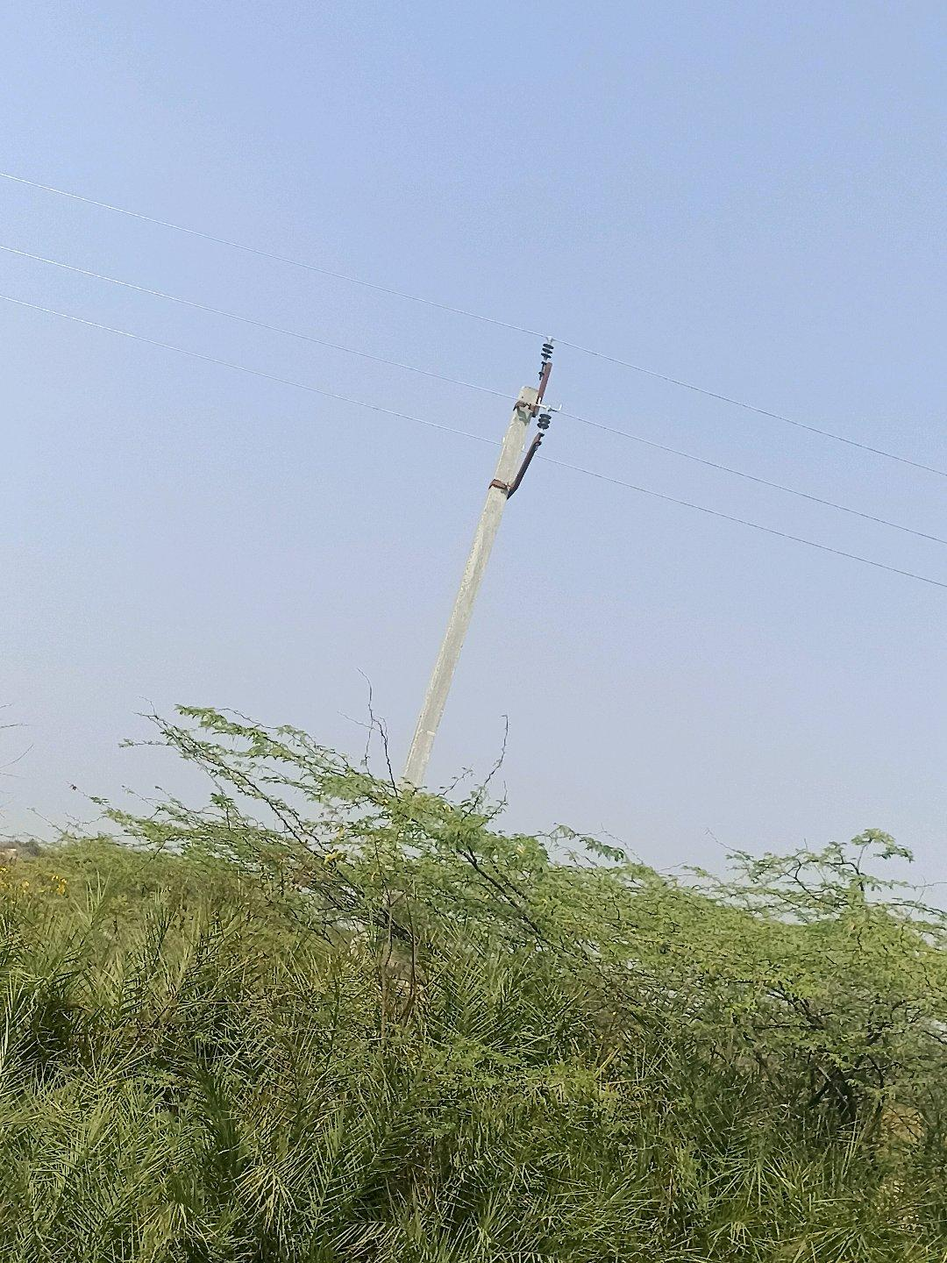{"0" "insulator", "1" "pole", "2" "crossarm", "3" "conductor", "4" "street_: (400, 341, 554, 793), (367, 804, 410, 866), (322, 839, 342, 868), (348, 819, 354, 827), (377, 844, 381, 848), (414, 804, 417, 808), (363, 824, 366, 827), (386, 854, 388, 858), (415, 843, 417, 847), (370, 845, 373, 847), (415, 835, 417, 838), (415, 824, 417, 827), (415, 815, 417, 818), (363, 805, 365, 808), (407, 825, 409, 827), (349, 805, 351, 807), (352, 800, 353, 803), (367, 801, 368, 803), (430, 816, 431, 817)
